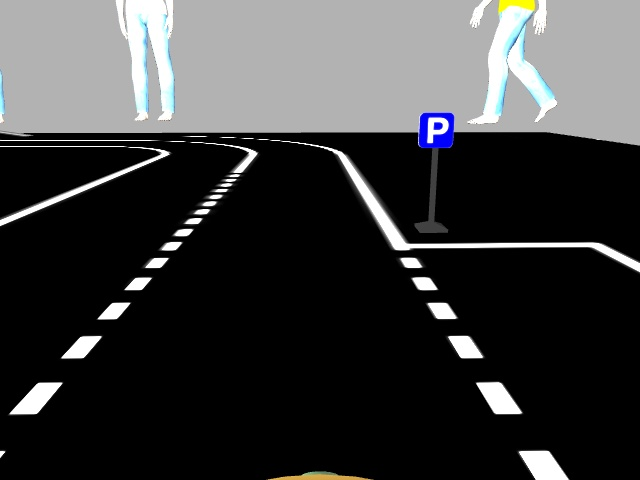Parking: (414, 111, 455, 150)
